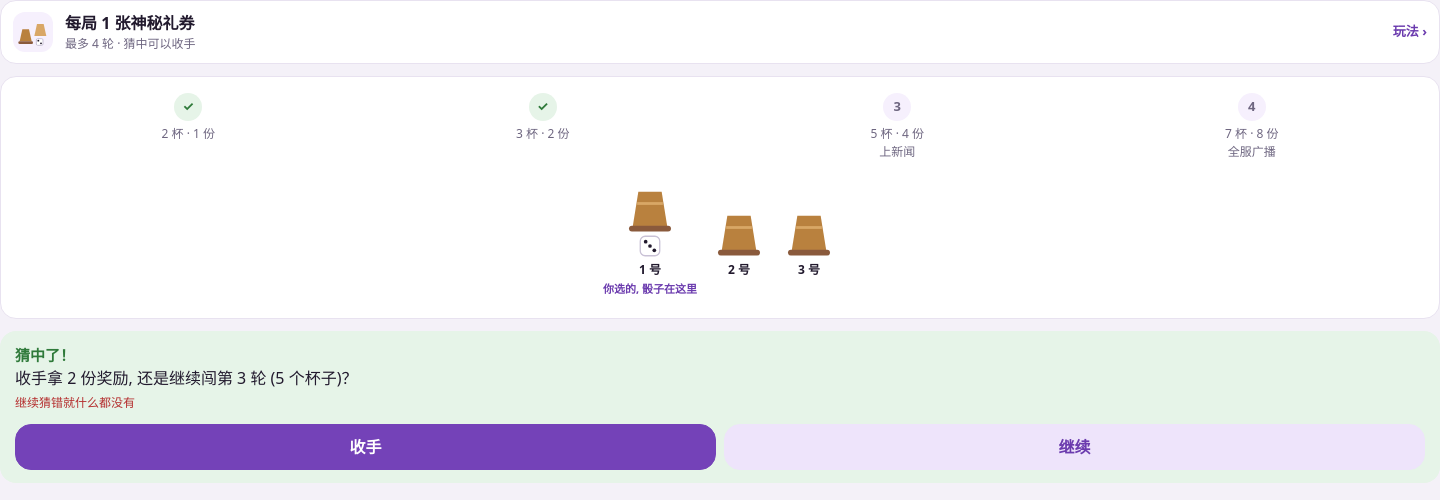
CupPanel › 收手：逐份列出奖励，再来一局回到开局
The image size is (1440, 500).
Step 1. Click the button with test id "cup-stop" → (366, 447), box 15,424 -> 716,470
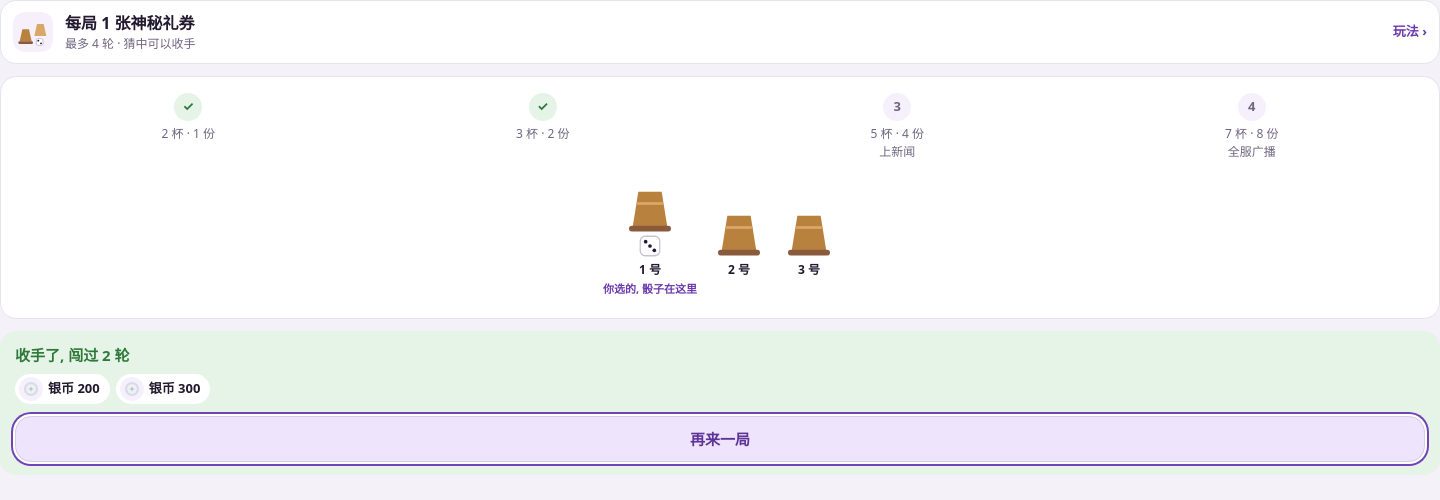
Expected: the text "收手了, 闯过 2 轮" is shown, 15,344 -> 130,364
Expected: the elements with test id "award-chip" read "银币 200", "银币 300", in this order, 15,374 -> 110,404; 116,374 -> 210,404
Step 2. Click the button with test id "cup-again" → (720, 439), box 15,416 -> 1425,462
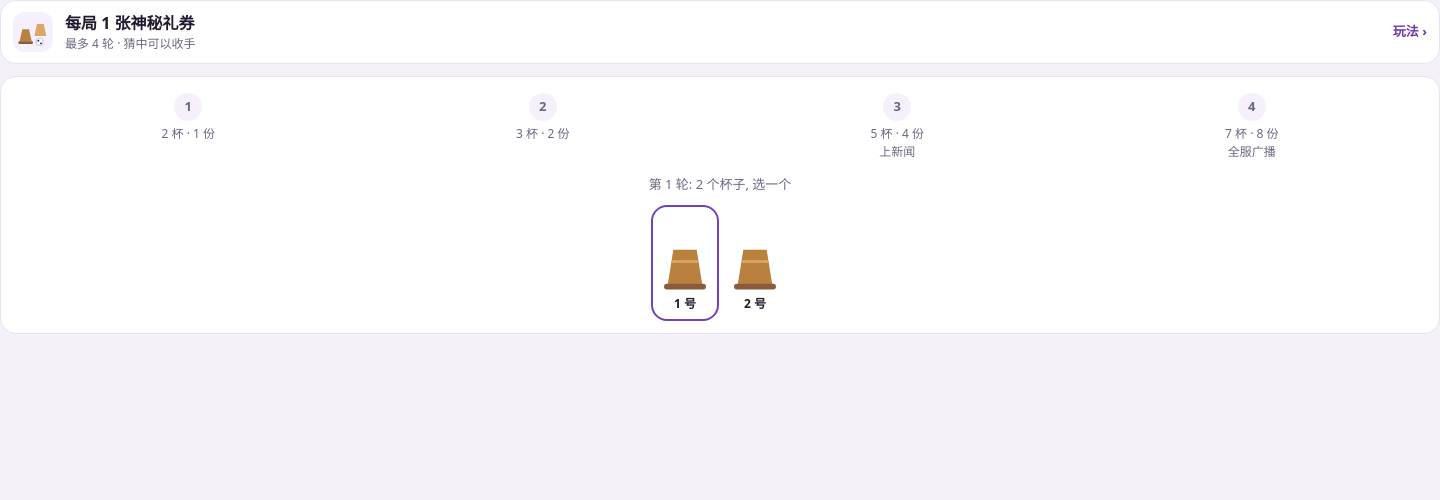
Expected: the text with test id "cup-pick" reads "第 1 轮: 2 个杯子, 选一个", 649,175 -> 791,193
Expected: the button with test id "cup-0" is enabled, 655,208 -> 715,316
